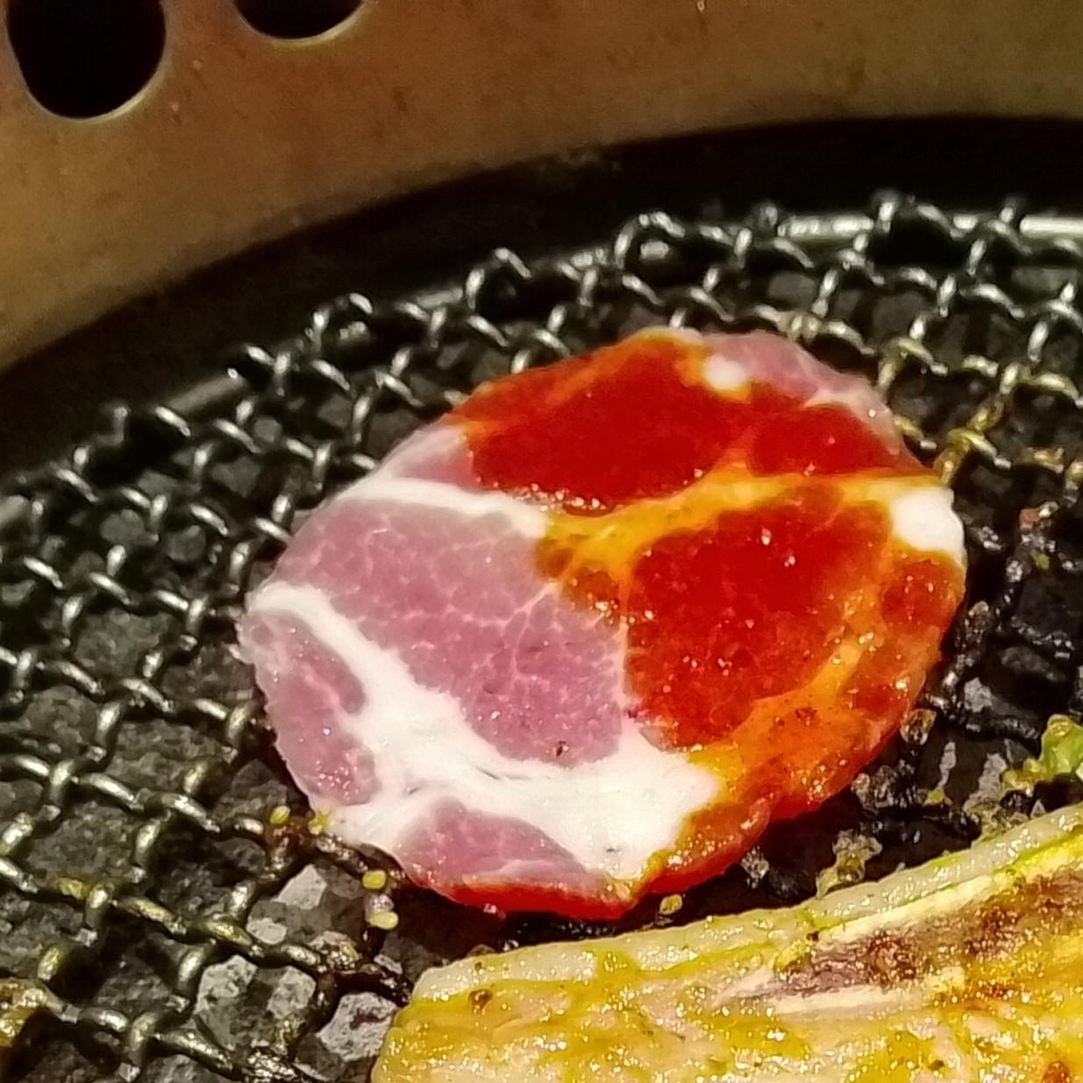Undercooked: (239, 329, 964, 916)
Well-Cooked: (373, 803, 1082, 1082)
